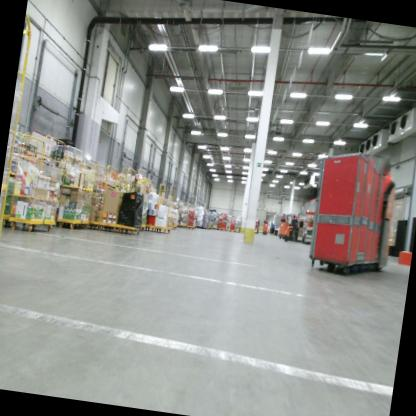pallet_truck: (316, 170, 404, 279), (283, 221, 306, 246), (277, 218, 292, 241), (260, 219, 269, 236)
